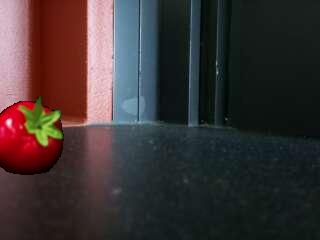Tomato: (0, 97, 64, 175)
